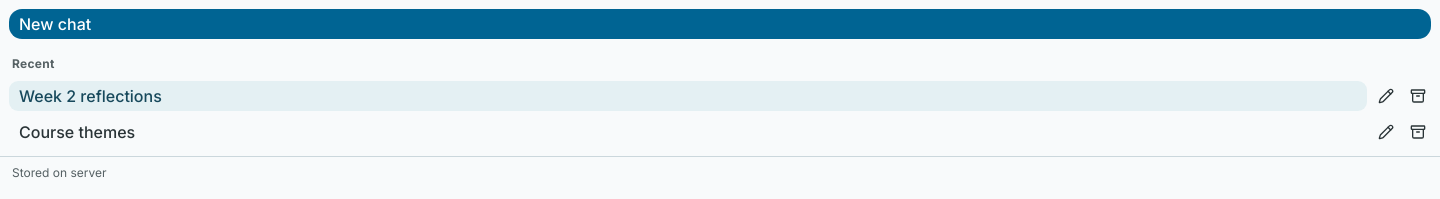
Test: does not submit an empty rename and can cancel editing
Click the button named "Rename Week 2 reflections": (1386, 96) [1372,82,1400,110]
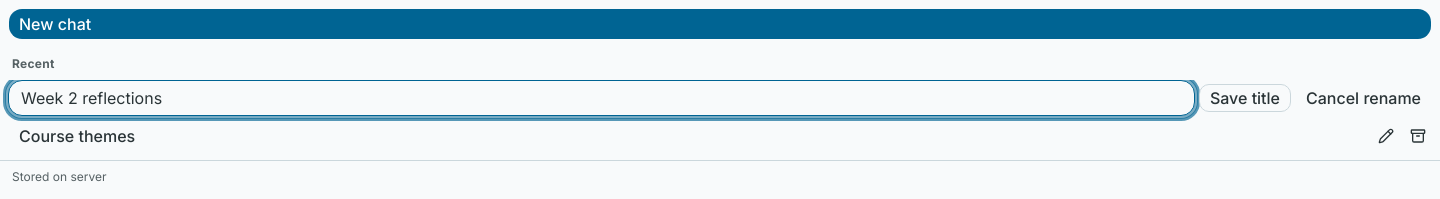
Clear the field named "Rename Week 2 reflections": (601, 98) [8,80,1195,116]
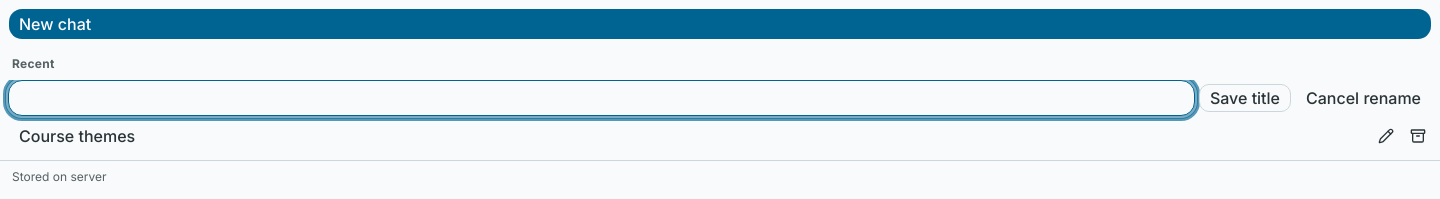
Click the button "Save title": (1245, 98) [1199,84,1291,112]
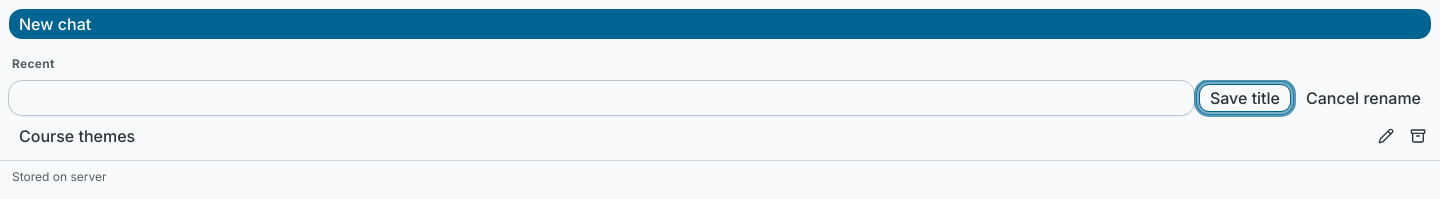
Click the button "Cancel rename": (1364, 98) [1295,84,1432,112]
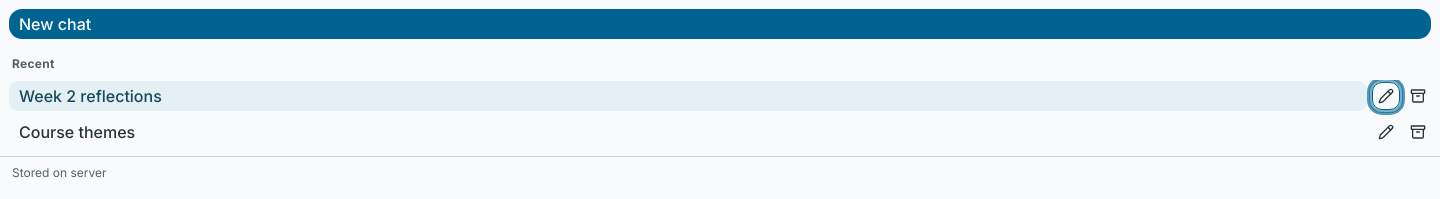
Expected: the button "Week 2 reflections" is shown, [8,80,1368,112]
